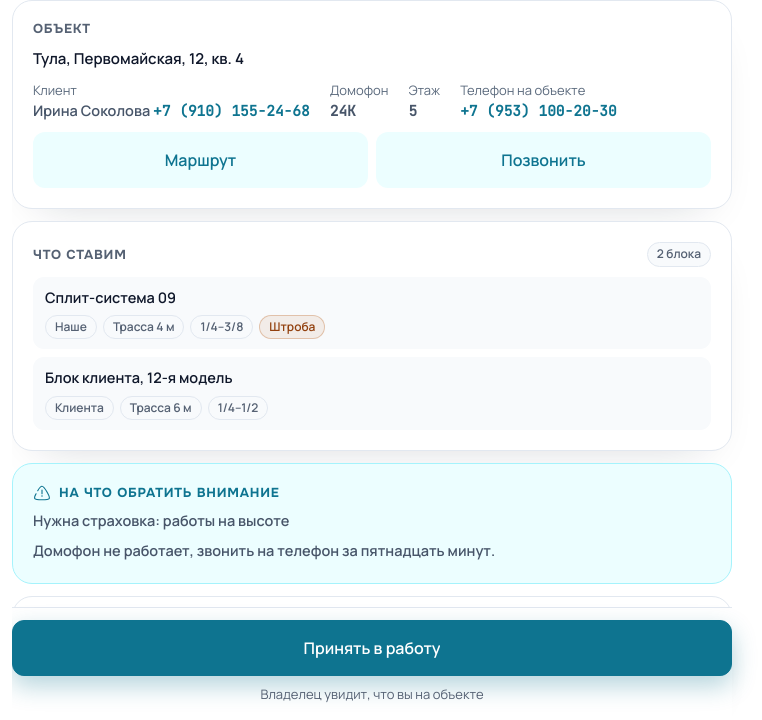
Scenario: Наряд у монтажника › 🔴 отказ сервера объясняется словами, а не молчанием
Click the button "Принять в работу" at (372,648), box [12,620,732,676]
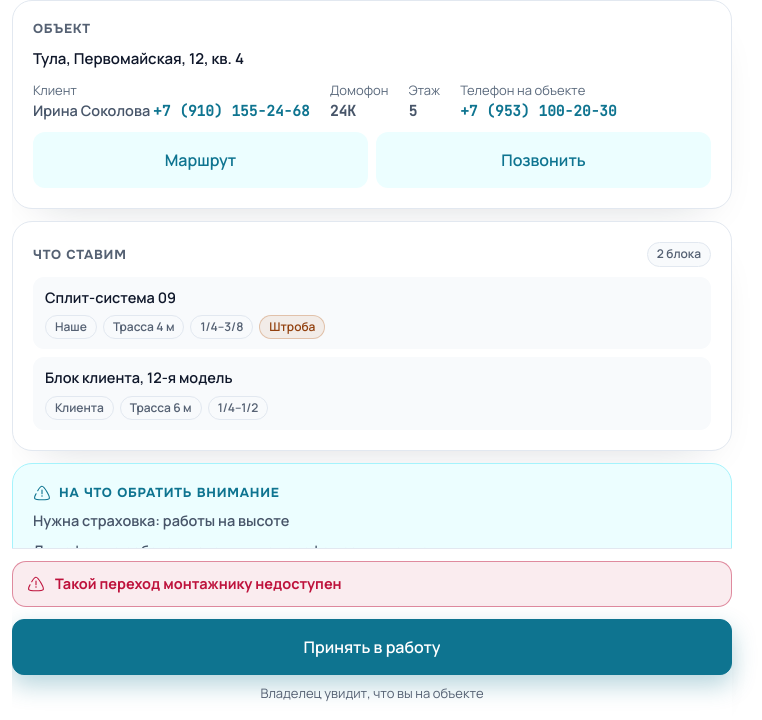
Result: the message shows "недоступен" at [55,575,342,594]
